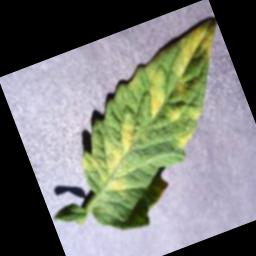Leaf_Mold: (43, 15, 256, 242)
